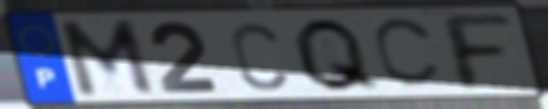2: (147, 18, 224, 96)
C: (369, 15, 445, 91), (227, 19, 291, 93)
F: (433, 12, 517, 93)
M: (55, 16, 161, 101)
Q: (289, 15, 385, 95)
